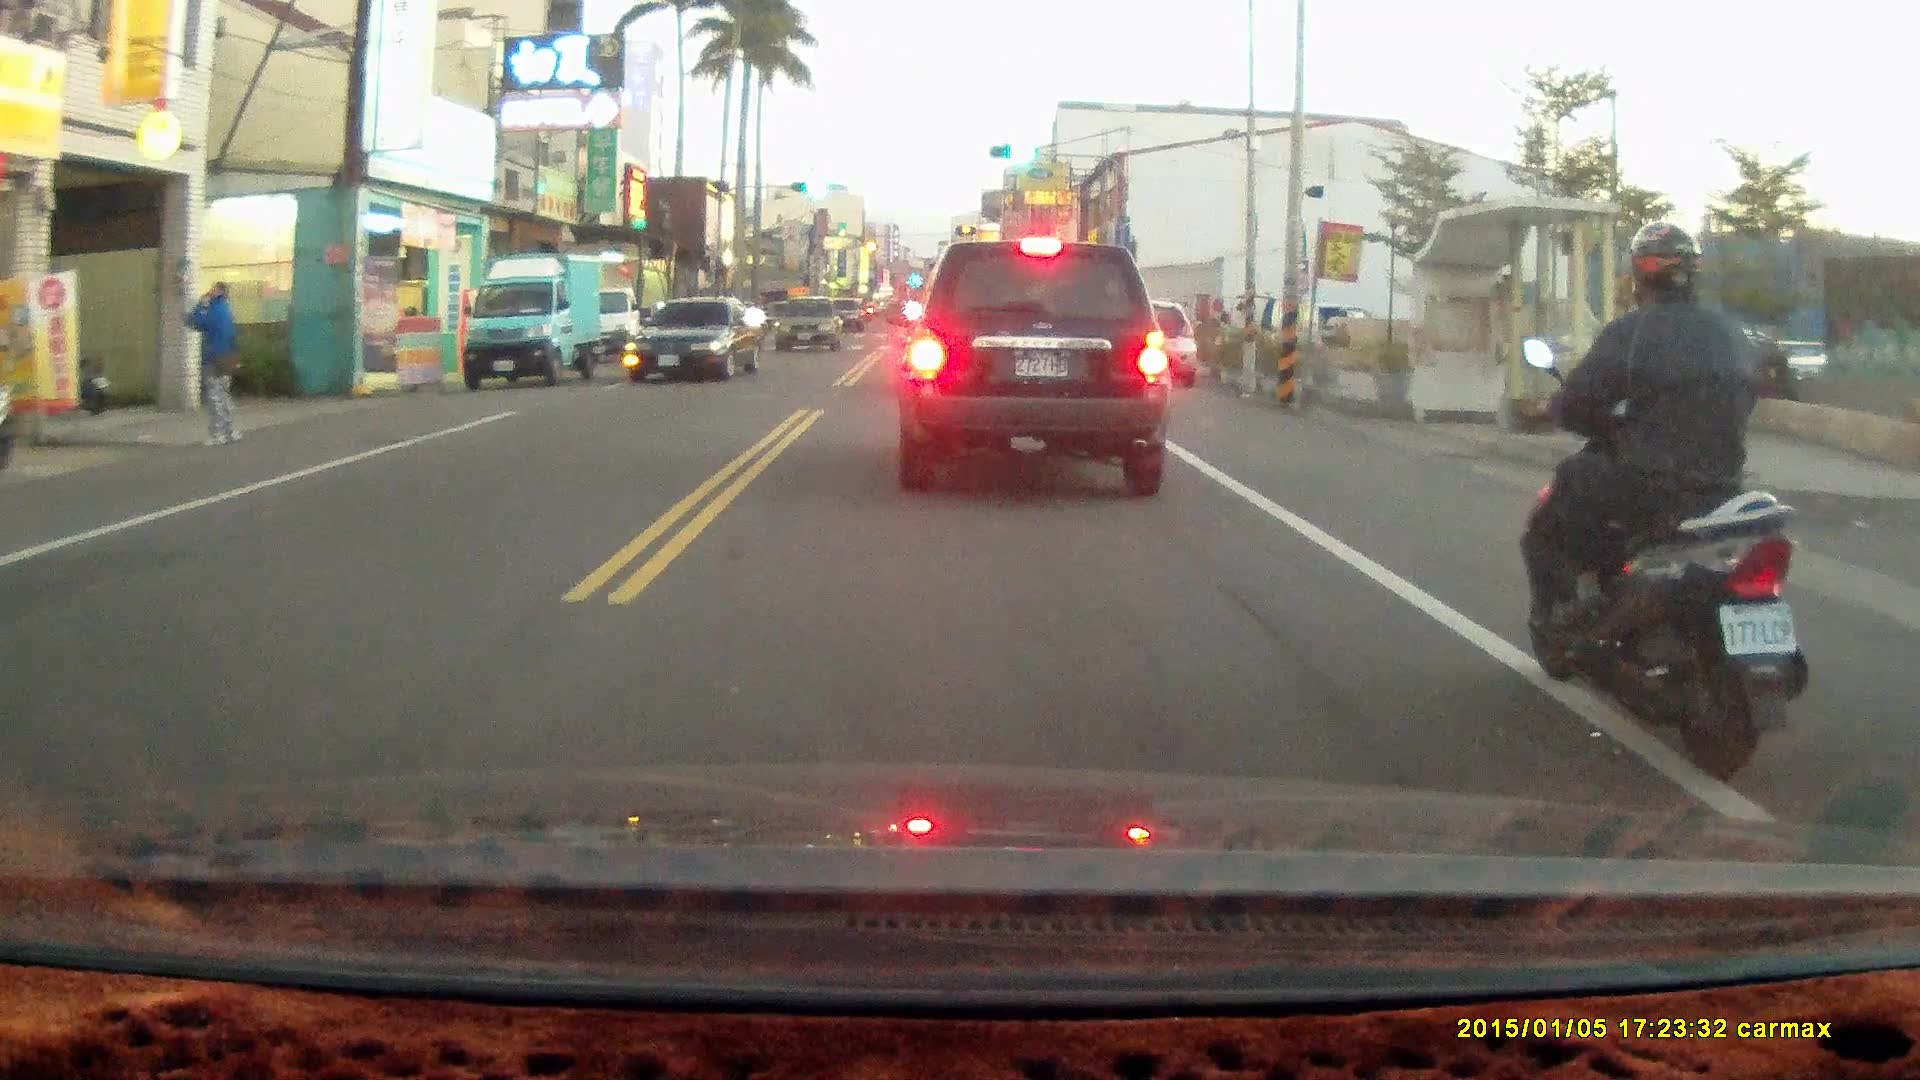pedestrian: (182, 279, 244, 449)
rider: (1519, 214, 1811, 782)
vehicle: (893, 239, 1174, 500), (459, 257, 601, 399), (624, 298, 770, 385), (773, 297, 844, 355)
